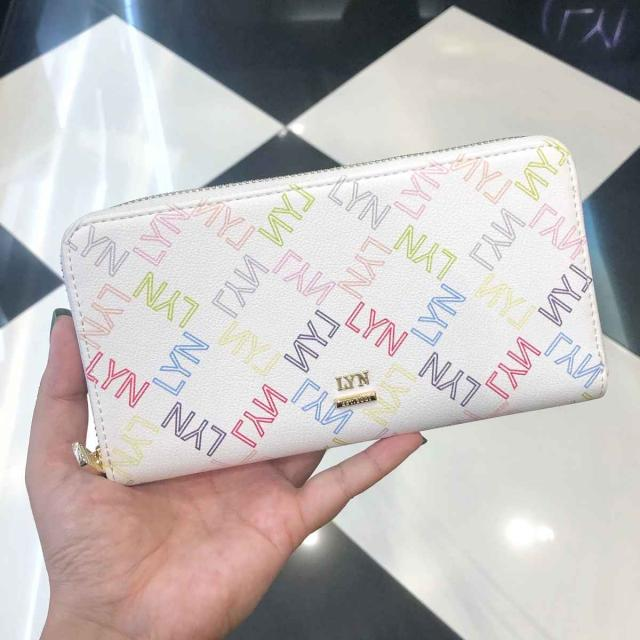Handbag: (85, 120, 620, 488)
